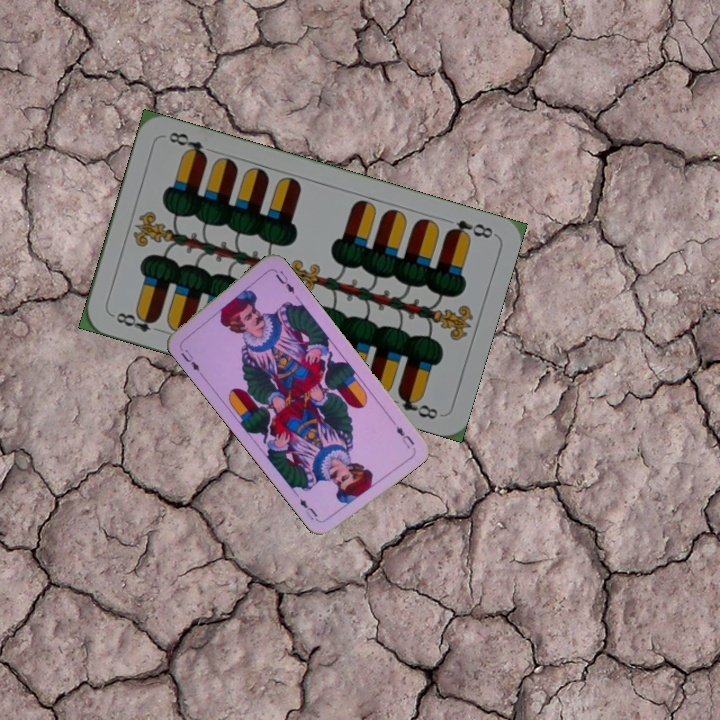E8: (108, 308, 165, 335), (443, 216, 496, 242)
EU: (175, 341, 204, 377), (392, 422, 417, 451)
